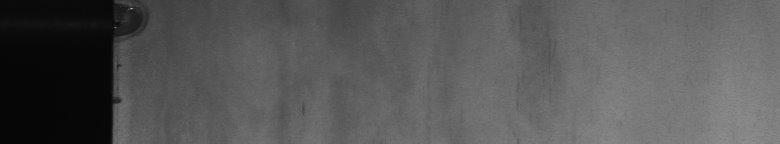hb: (124, 4, 155, 48)
